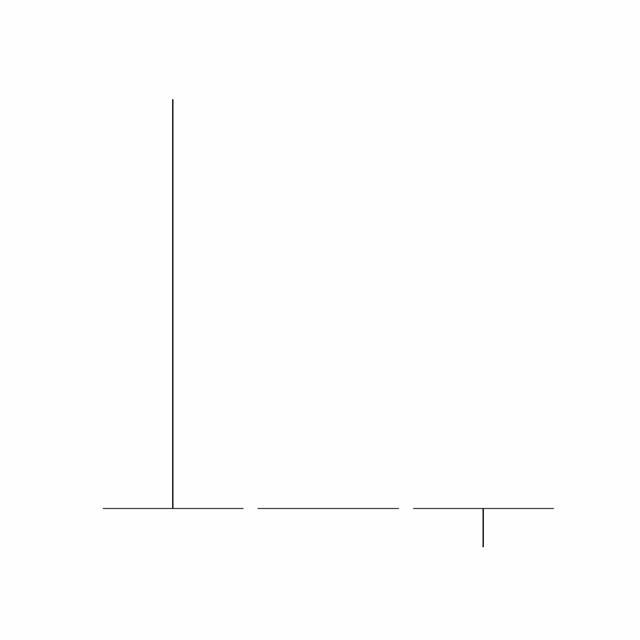Dragonfly Doji: (406, 507, 562, 549)
